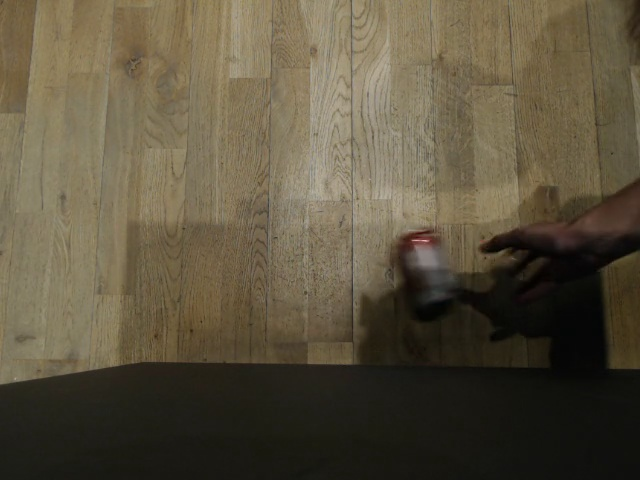cola: (391, 231, 451, 315)
